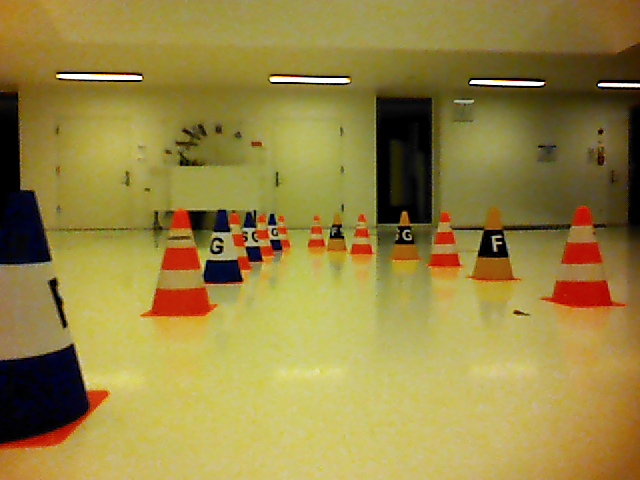bluecone: (1, 189, 105, 451), (204, 209, 243, 285), (246, 211, 263, 262)
orangeconesmall: (543, 204, 627, 309), (429, 210, 464, 269), (350, 213, 375, 256)
yellowcone: (470, 206, 523, 283), (388, 210, 424, 262), (327, 213, 348, 252)
